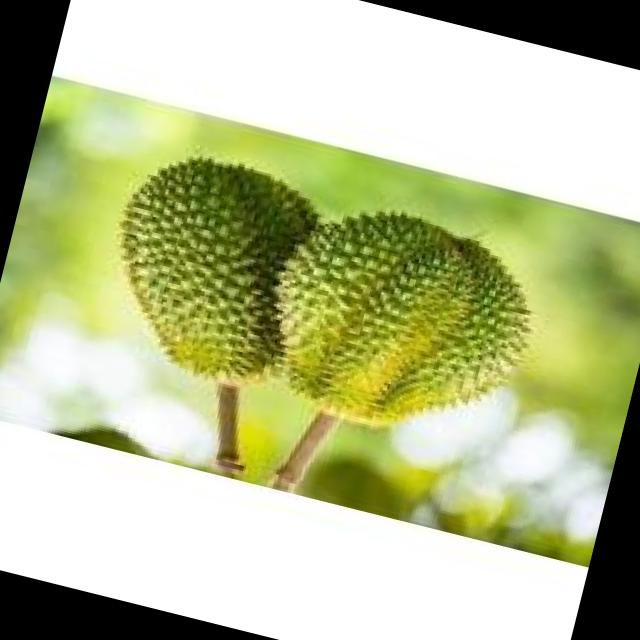fruit: (228, 176, 570, 481), (71, 125, 337, 418)
